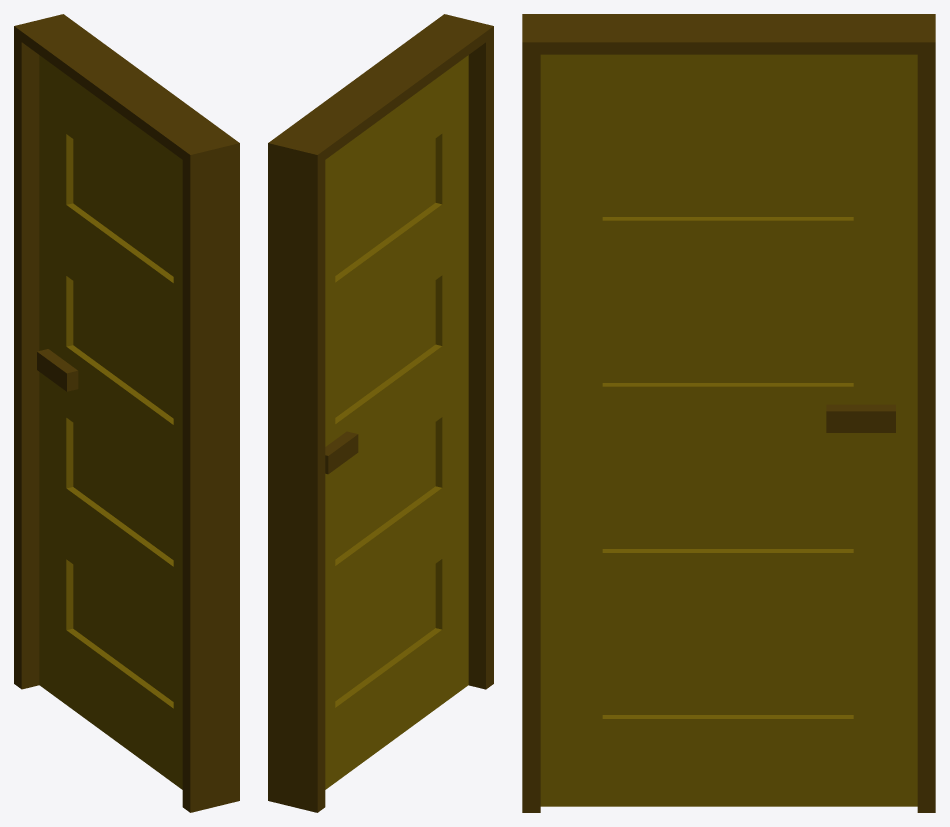
File: Door.fbx
3 renders of one model, left to right at view 1: azimuth 30°, elevation 25°; view 2: azimuth 150°, elevation 25°; view 3: azimuth 270°, elevation 25°, orthographic. The views are drawn at different scales.
Parts seen in each view (by area): view 1: Door, Frame; view 2: Door, Frame; view 3: Door, Frame.
Boxes of the visible parts, <box> form: Door: <box>37,55,182,789</box>; Frame: <box>14,14,239,812</box>; Door: <box>325,55,468,789</box>; Frame: <box>268,14,493,812</box>; Door: <box>540,54,917,806</box>; Frame: <box>522,14,935,812</box>.
Bounding box in the file's own units: 32.17 × 404 × 196.
